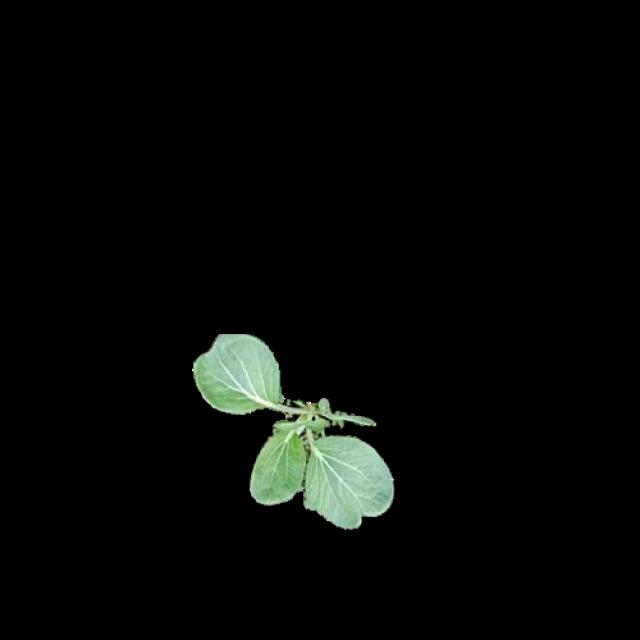healthy: (191, 330, 394, 529)
not-mature: (193, 333, 397, 531)
